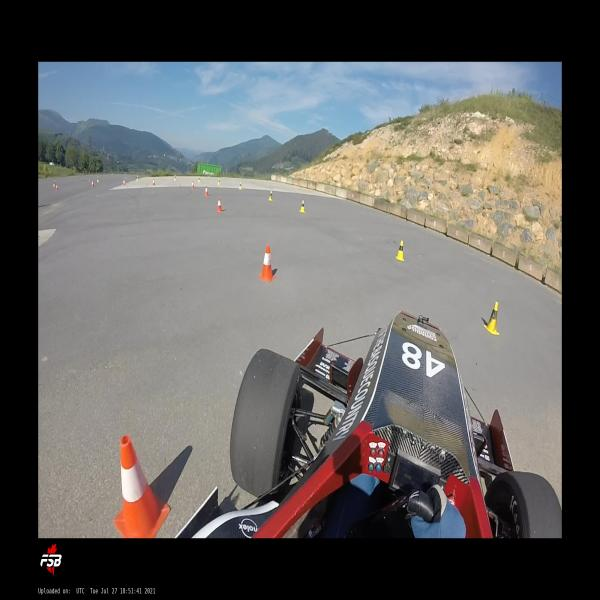orange_cone: (113, 436, 171, 538), (258, 245, 276, 282), (217, 198, 222, 212), (205, 187, 208, 196), (191, 181, 194, 188), (123, 179, 125, 185), (153, 179, 155, 185), (57, 185, 58, 190), (92, 182, 93, 187)
yellow_cone: (483, 302, 500, 336), (396, 240, 404, 262), (299, 200, 306, 213), (268, 190, 273, 201), (239, 182, 242, 189), (53, 180, 56, 186), (218, 178, 220, 185), (174, 175, 176, 181), (136, 175, 138, 181), (97, 177, 99, 182), (198, 177, 200, 182)
